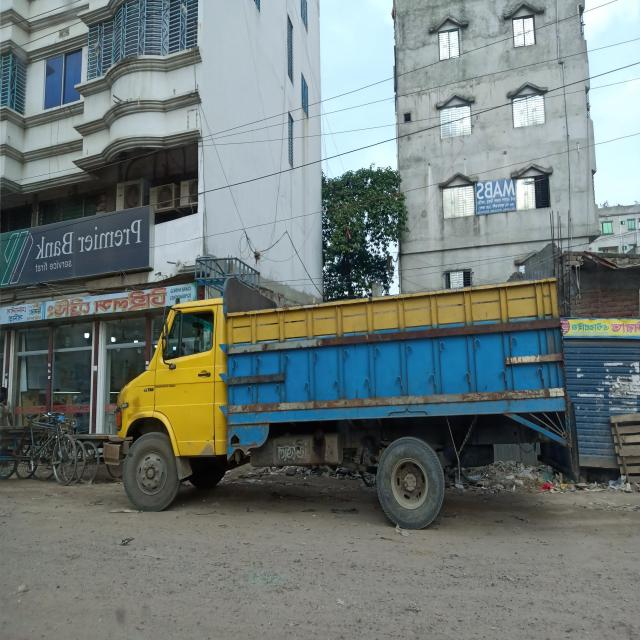truck: (94, 239, 577, 546)
